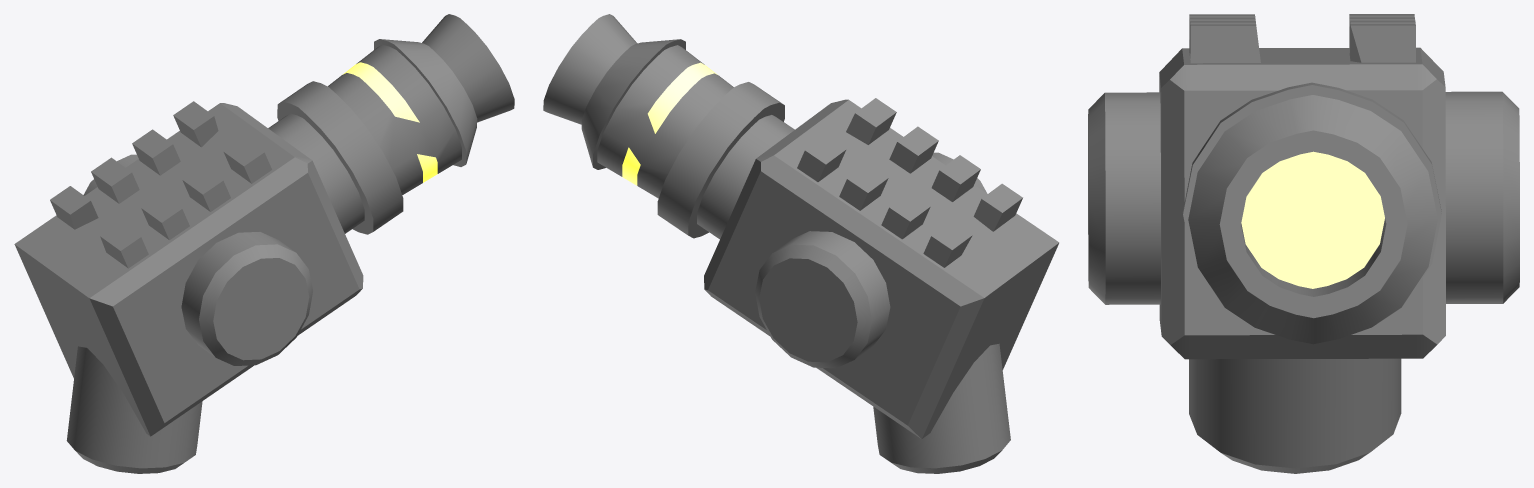
File: konfetymachine.fbx
The picture shows the model from 3 angles, left to right: view 1: azimuth 30°, elevation 25°; view 2: azimuth 150°, elevation 25°; view 3: azimuth 270°, elevation 25°; orthographic projection. The views are drawn at different scales.
Parts seen in each view (by area): view 1: Cylinder.003; view 2: Cylinder.003; view 3: Cylinder.003.
Part boxes in pixels (x1=…): Cylinder.003: x1=14, y1=14, x2=514, y2=473; Cylinder.003: x1=543, y1=14, x2=1059, y2=473; Cylinder.003: x1=1088, y1=14, x2=1519, y2=473.
Bounding box in the file's own units: 788 × 590 × 407.
